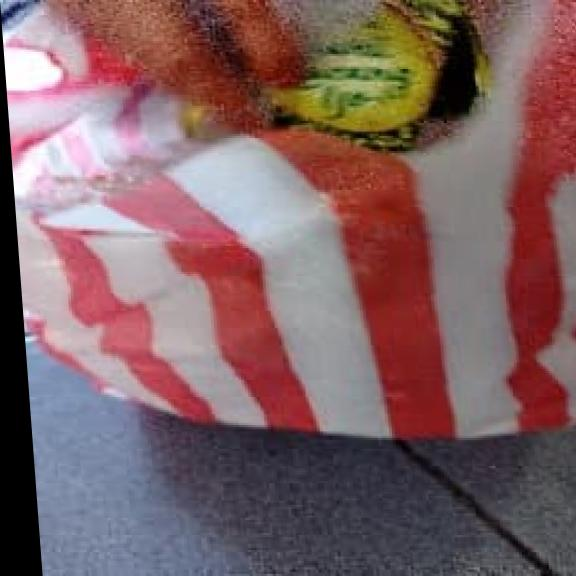Plastik: (22, 134, 576, 437)
